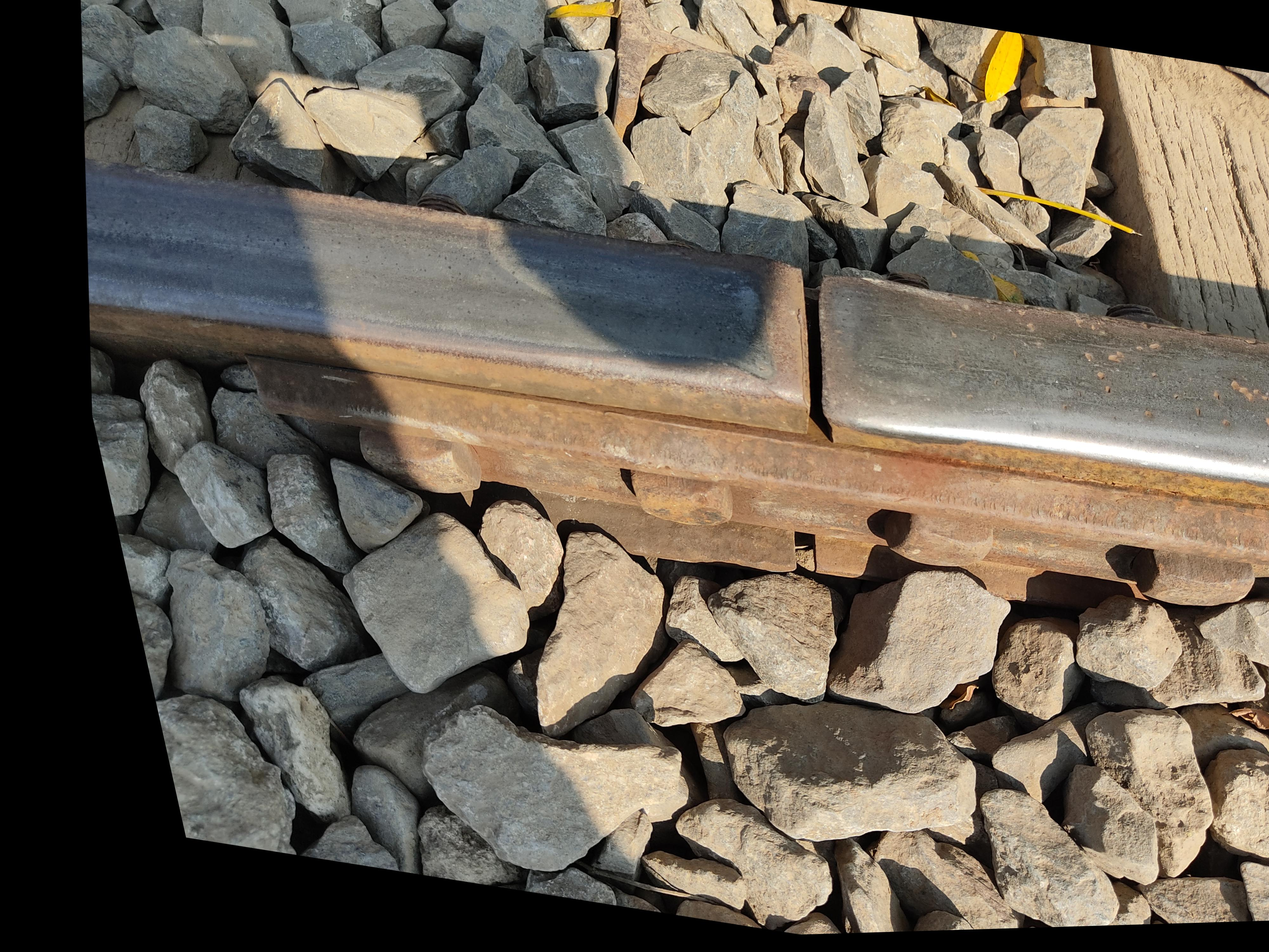person: (682, 82, 1067, 406), (799, 395, 926, 500)
